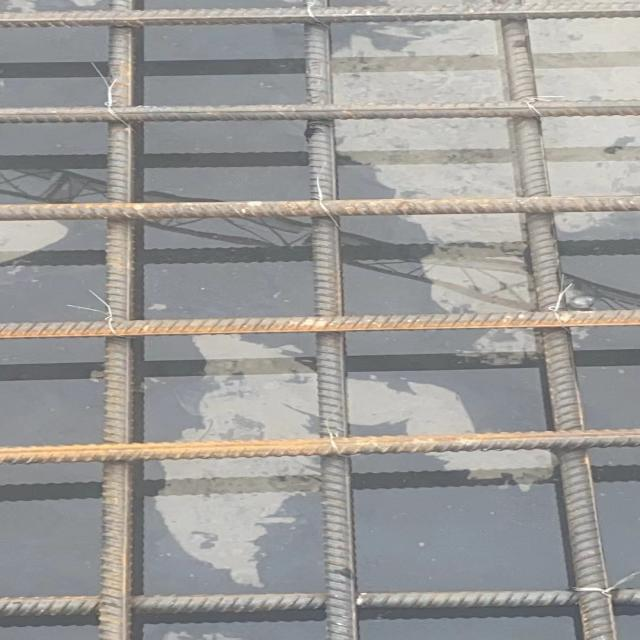ribbed bar: (492, 0, 620, 639), (303, 0, 361, 639), (0, 427, 639, 465), (94, 0, 131, 639), (0, 309, 639, 340), (0, 589, 639, 619), (0, 98, 639, 125), (0, 193, 639, 220), (0, 2, 639, 28)
